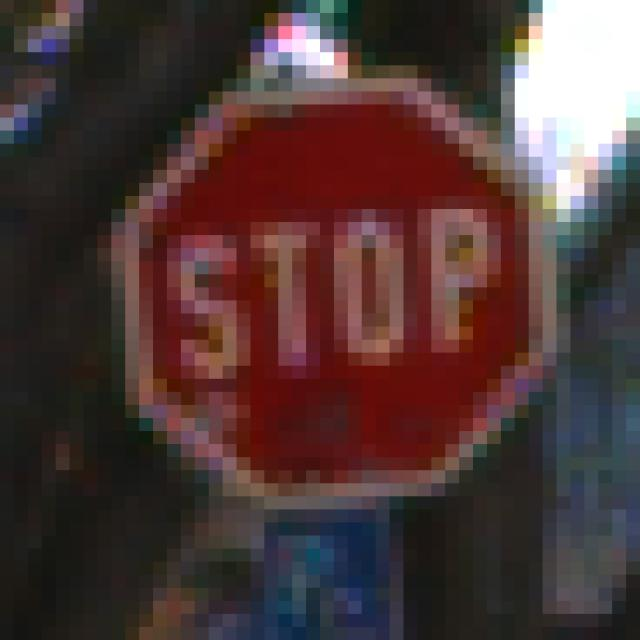STOP: (85, 79, 558, 563)
